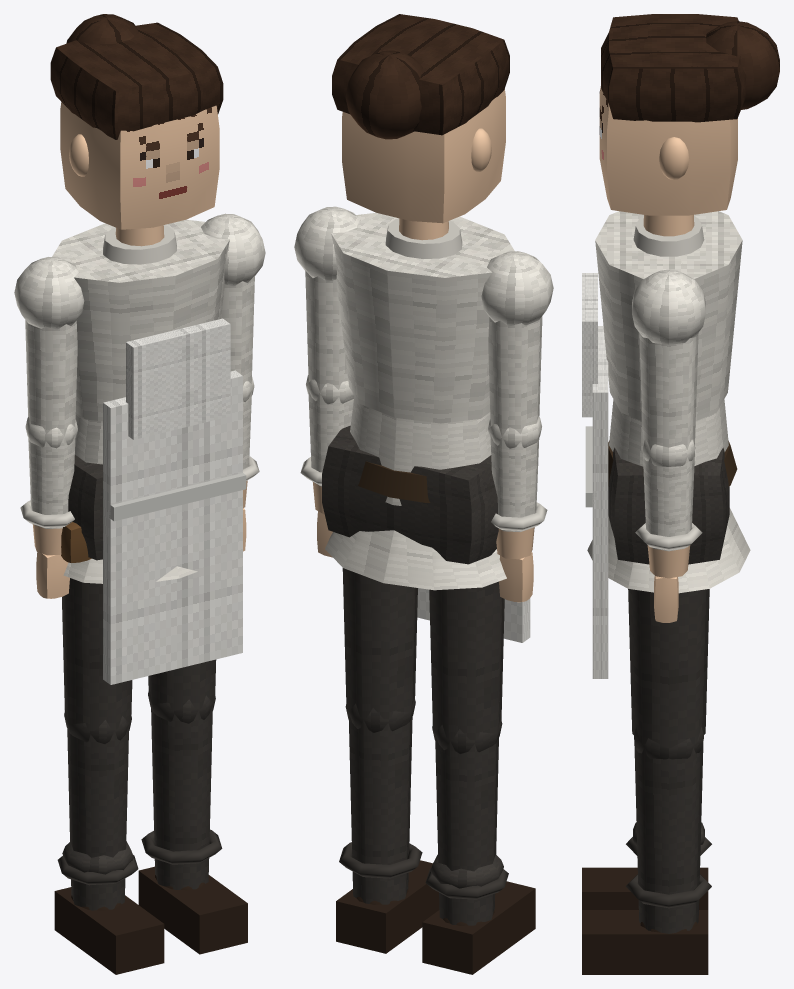
File: doctora.glb
3 renders of one model, left to right at view 1: azimuth 30°, elevation 25°; view 2: azimuth 150°, elevation 25°; view 3: azimuth 270°, elevation 25°, orthographic. The views are drawn at different scales.
Parts seen in each view (by area): view 1: doctora, object 30, object 33, object 10, object 3, object 1, object 7, object 13, object 16, object 15, object 18, object 22 (+14 smaller); view 2: doctora, object 30, object 33, object 1, object 10, object 8, object 3, object 7, object 34, object 16, object 13, object 15 (+16 smaller); view 3: doctora, object 33, object 30, object 8, object 10, object 13, object 23, object 22, object 25, object 34, object 7, object 11 (+7 smaller).
Boxes of the visible parts, x1,y1,x2,y2 form: doctora: (52,219,246,684); object 30: (60,102,219,229); object 33: (50,22,223,139); object 10: (151,705,212,889); object 3: (67,725,129,910); object 1: (62,578,132,730); object 7: (54,887,164,974); object 13: (138,866,247,954); object 16: (25,320,77,436); object 15: (14,257,84,329); object 18: (28,434,75,528); object 22: (201,213,265,286); doctora: (322,212,530,642); object 30: (342,88,505,223); object 33: (332,14,509,135); object 1: (429,581,504,740); object 10: (348,713,412,904); object 8: (342,568,417,719); object 3: (435,734,498,925); object 7: (422,881,535,974); object 34: (345,50,422,139); object 16: (488,316,542,436); object 13: (336,860,439,953); object 15: (481,251,553,325); doctora: (582,211,750,678); object 33: (601,14,746,122); object 30: (599,86,737,215); object 8: (628,589,709,748); object 10: (634,741,703,933); object 13: (582,910,708,974); object 23: (639,333,698,449); object 22: (632,269,705,344); object 25: (642,447,695,551); object 34: (706,21,779,109); object 7: (582,867,708,909); object 11: (625,874,711,908).
Size of the model in its own units: 0.5567 by 1.95 by 0.3818.
16 materials, 6 textured.
